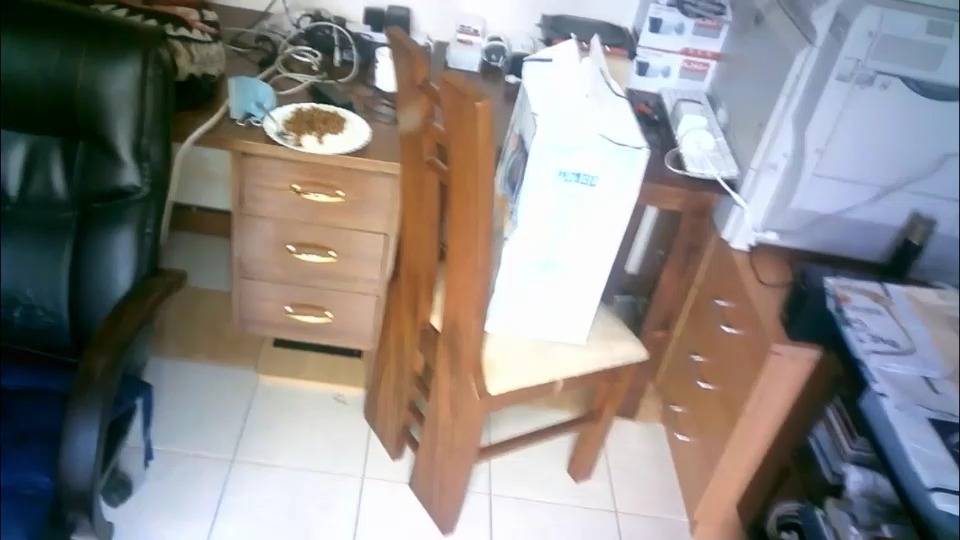wheat_flour_blue_label: (500, 32, 644, 356)
